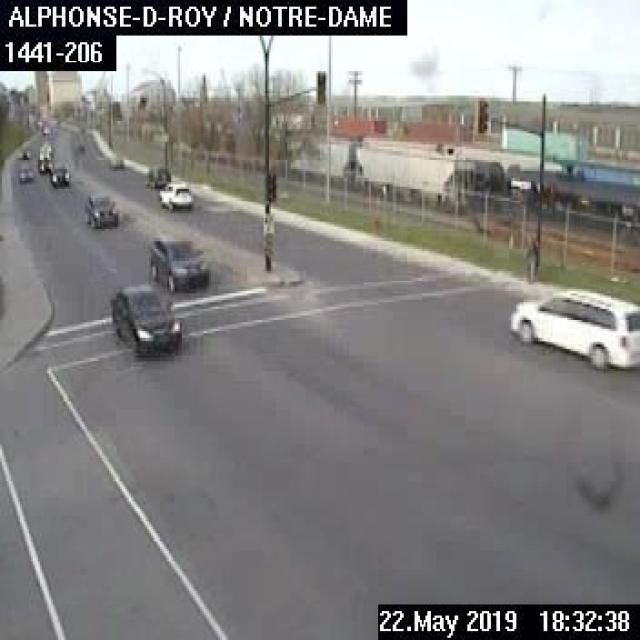pedestrian: (520, 233, 540, 296)
vehicle: (506, 284, 638, 374), (110, 281, 178, 354), (147, 232, 208, 289), (84, 193, 116, 226), (158, 180, 192, 210), (142, 163, 170, 189), (48, 162, 70, 187), (15, 162, 31, 183), (36, 155, 52, 172), (15, 144, 30, 160), (106, 154, 123, 168)
